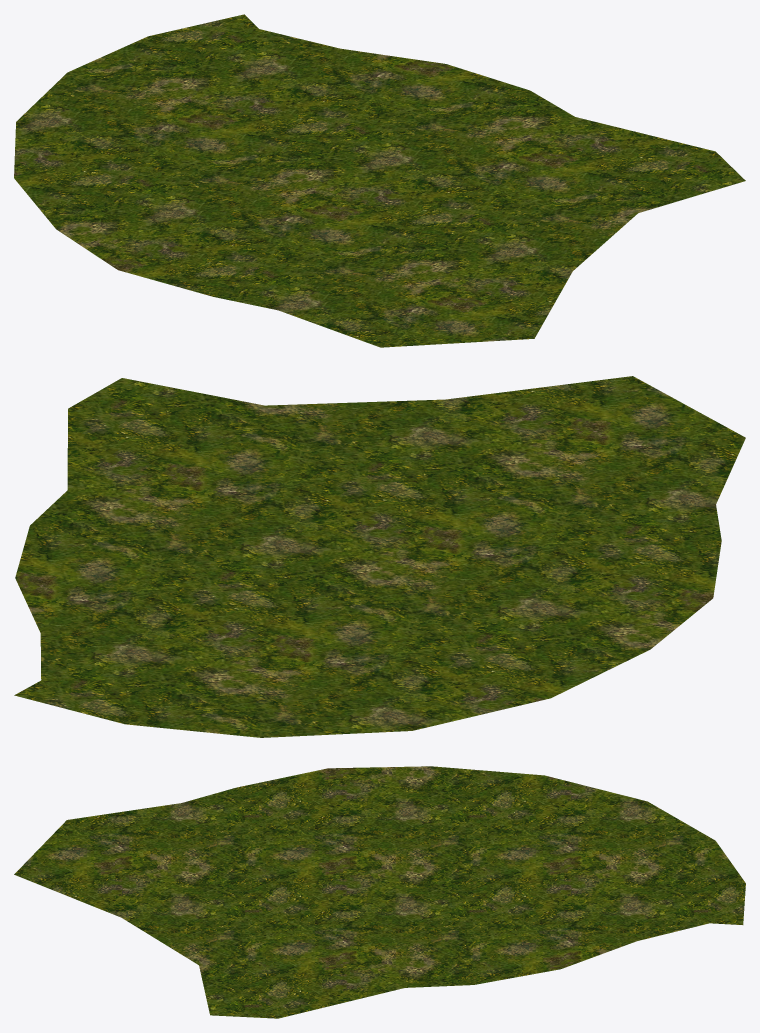
Rendered from OVERHILL_A_01_LINE15.fbx.
3 renders of one model, top to bottom at view 1: azimuth 30°, elevation 25°; view 2: azimuth 150°, elevation 25°; view 3: azimuth 270°, elevation 25°, orthographic. The views are drawn at different scales.
Parts seen in each view (by area): view 1: OVERHILL_A_01_LINE15; view 2: OVERHILL_A_01_LINE15; view 3: OVERHILL_A_01_LINE15.
Boxes of the visible parts, x1,y1,x2,y2 form: OVERHILL_A_01_LINE15: [14, 14, 745, 347]; OVERHILL_A_01_LINE15: [14, 376, 745, 737]; OVERHILL_A_01_LINE15: [14, 766, 745, 1018].
Size of the model in its own units: 53195 by 0.0106 by 65203.
1 material, 1 textured.
